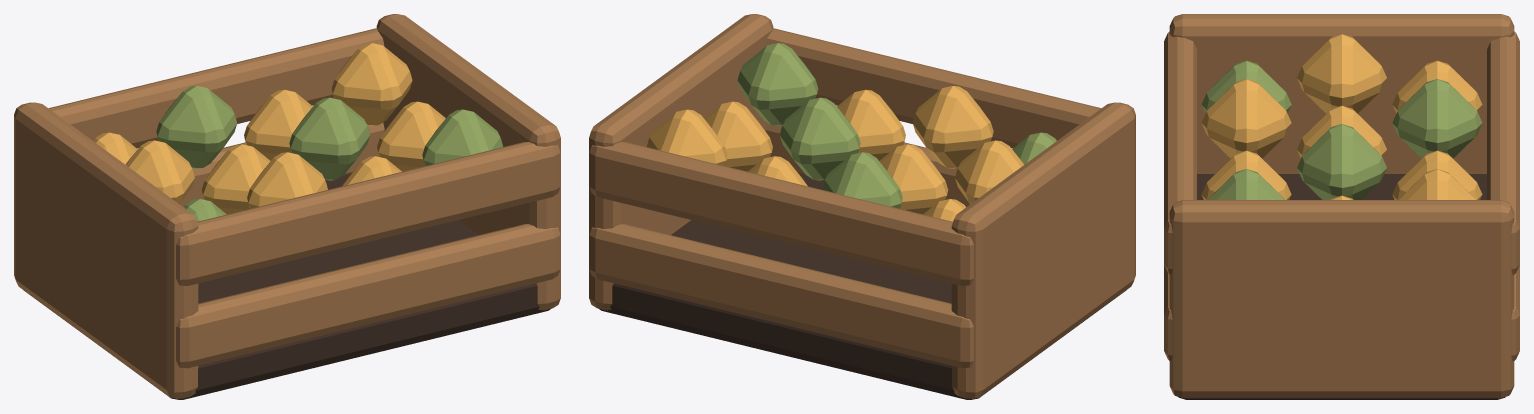
The model's file is prop_produce_crate__attachments.glb.
3 renders of one model, left to right at view 1: azimuth 30°, elevation 25°; view 2: azimuth 150°, elevation 25°; view 3: azimuth 270°, elevation 25°, orthographic. The views are drawn at different scales.
Visible parts, largest first — view 1: prop_produce_crate__attachments__mesh_00; view 2: prop_produce_crate__attachments__mesh_00; view 3: prop_produce_crate__attachments__mesh_00.
Boxes of the visible parts, bbox=[...] form: prop_produce_crate__attachments__mesh_00: bbox=[14, 14, 560, 399]; prop_produce_crate__attachments__mesh_00: bbox=[589, 14, 1135, 399]; prop_produce_crate__attachments__mesh_00: bbox=[1164, 14, 1519, 399].
Size of the model in its own units: 0.65 by 0.3056 by 0.485.
